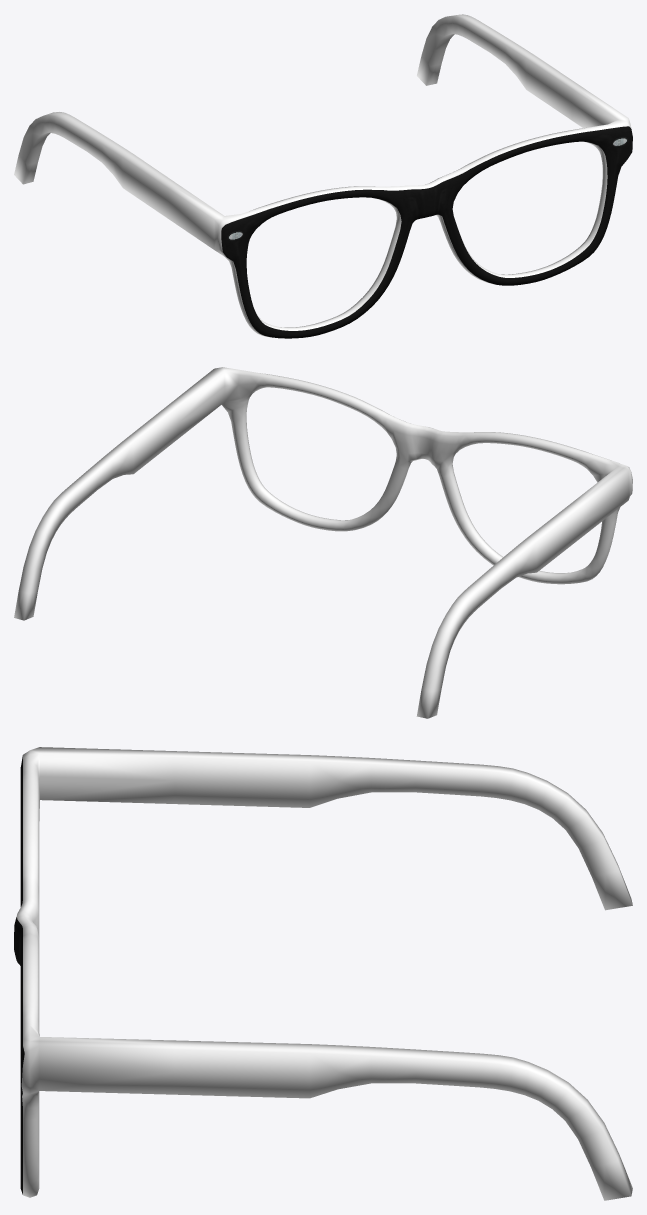
Rendered from aligned_glasses.gltf.
3 renders of one model, top to bottom at view 1: azimuth 30°, elevation 25°; view 2: azimuth 150°, elevation 25°; view 3: azimuth 270°, elevation 25°, orthographic. The views are drawn at different scales.
Visible parts, largest first — view 1: Glasses; view 2: Glasses; view 3: Glasses.
Boxes of the visible parts, x1=… form: Glasses: x1=14, y1=14, x2=632, y2=338; Glasses: x1=14, y1=367, x2=632, y2=718; Glasses: x1=14, y1=747, x2=632, y2=1200.
Bounding box in the file's own units: 16.24 × 5.33 × 14.23.
1 material, 1 textured.
